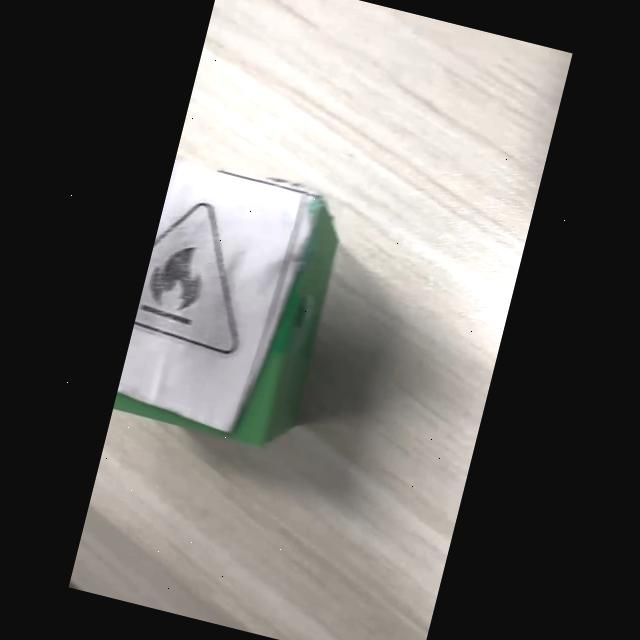Fire: (134, 203, 238, 352)
